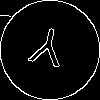Y: (25, 25, 68, 77)
